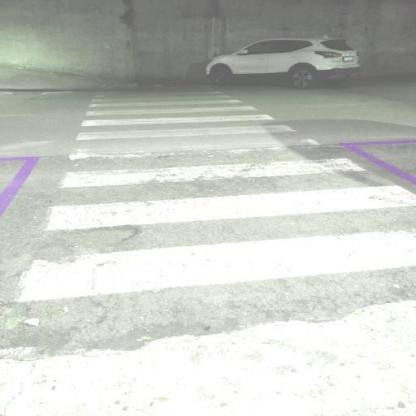crosswalk: (42, 154, 415, 235), (81, 104, 281, 128)
